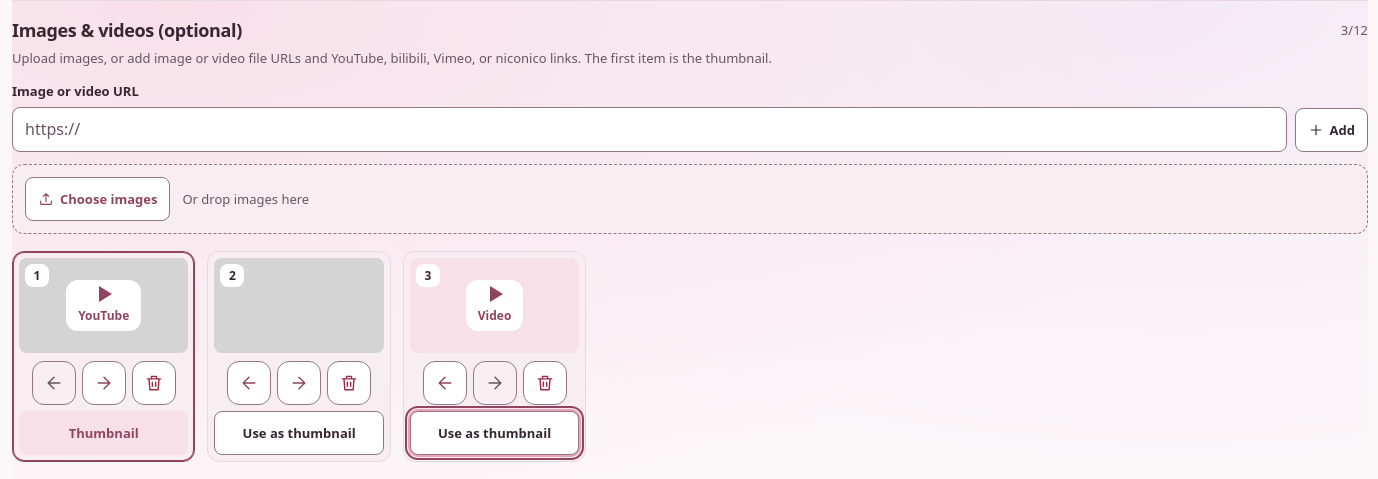
Test: marks the first tile as the thumbnail and moves a chosen cover to the front
Check: the text with class "media-editor-cover-badge" reads "Thumbnail", box x1=69 y1=424 x2=139 y2=442
Click the 2nd button "Use as thumbnail": (494, 434) x1=410 y1=412 x2=579 y2=456
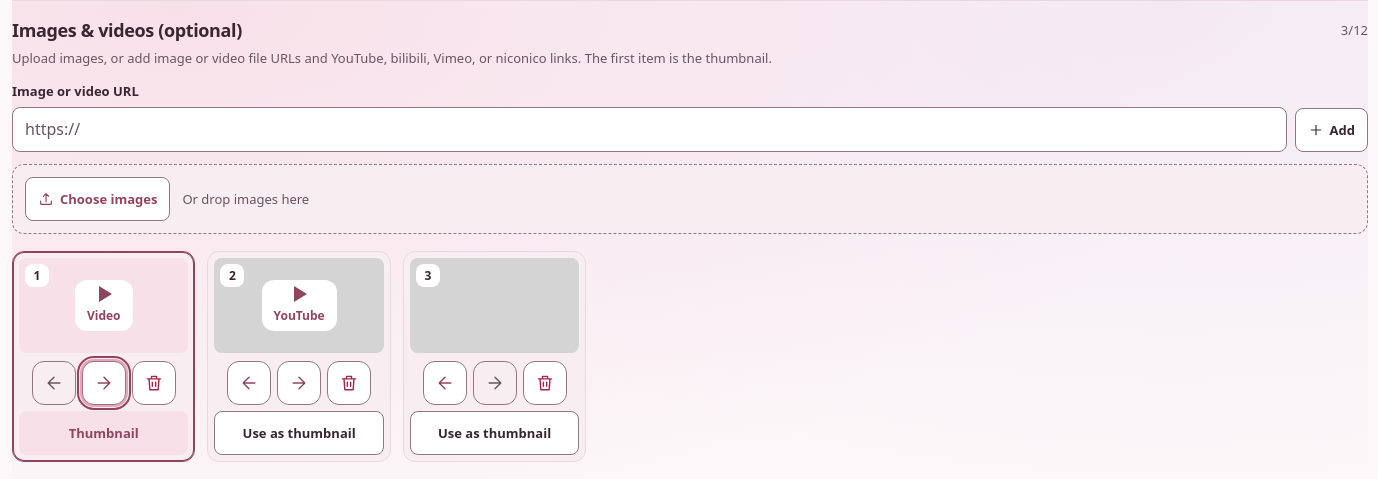
Check: the list item with class "media-editor-tile" shows "Video", box x1=87 y1=307 x2=120 y2=324
Check: the list item with class "media-editor-tile" has attribute data-cover="false", box x1=207 y1=251 x2=391 y2=462
